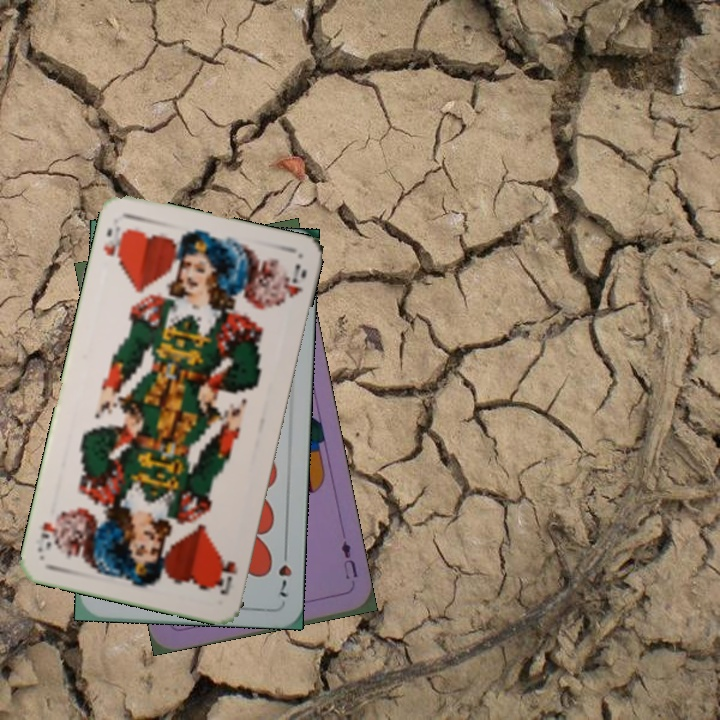EU: (337, 537, 360, 582)
H7: (273, 543, 294, 600)
HO: (99, 222, 130, 268), (210, 551, 240, 597)
